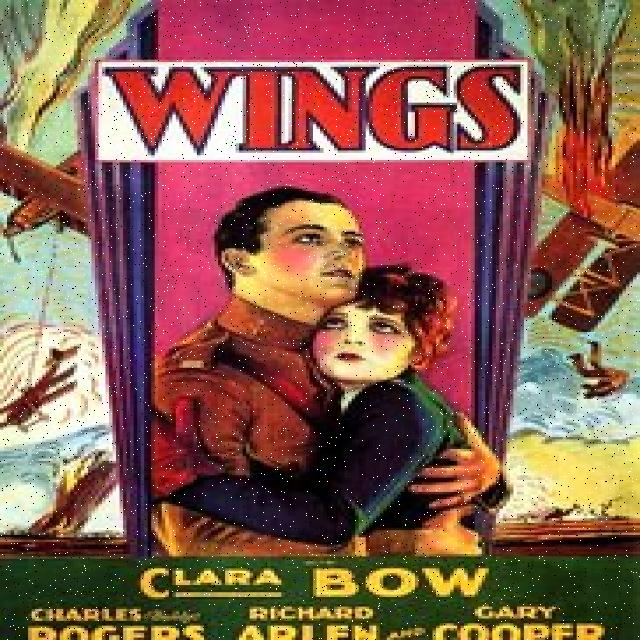movie-judul: (104, 64, 526, 164)
picture: (7, 1, 640, 549)
